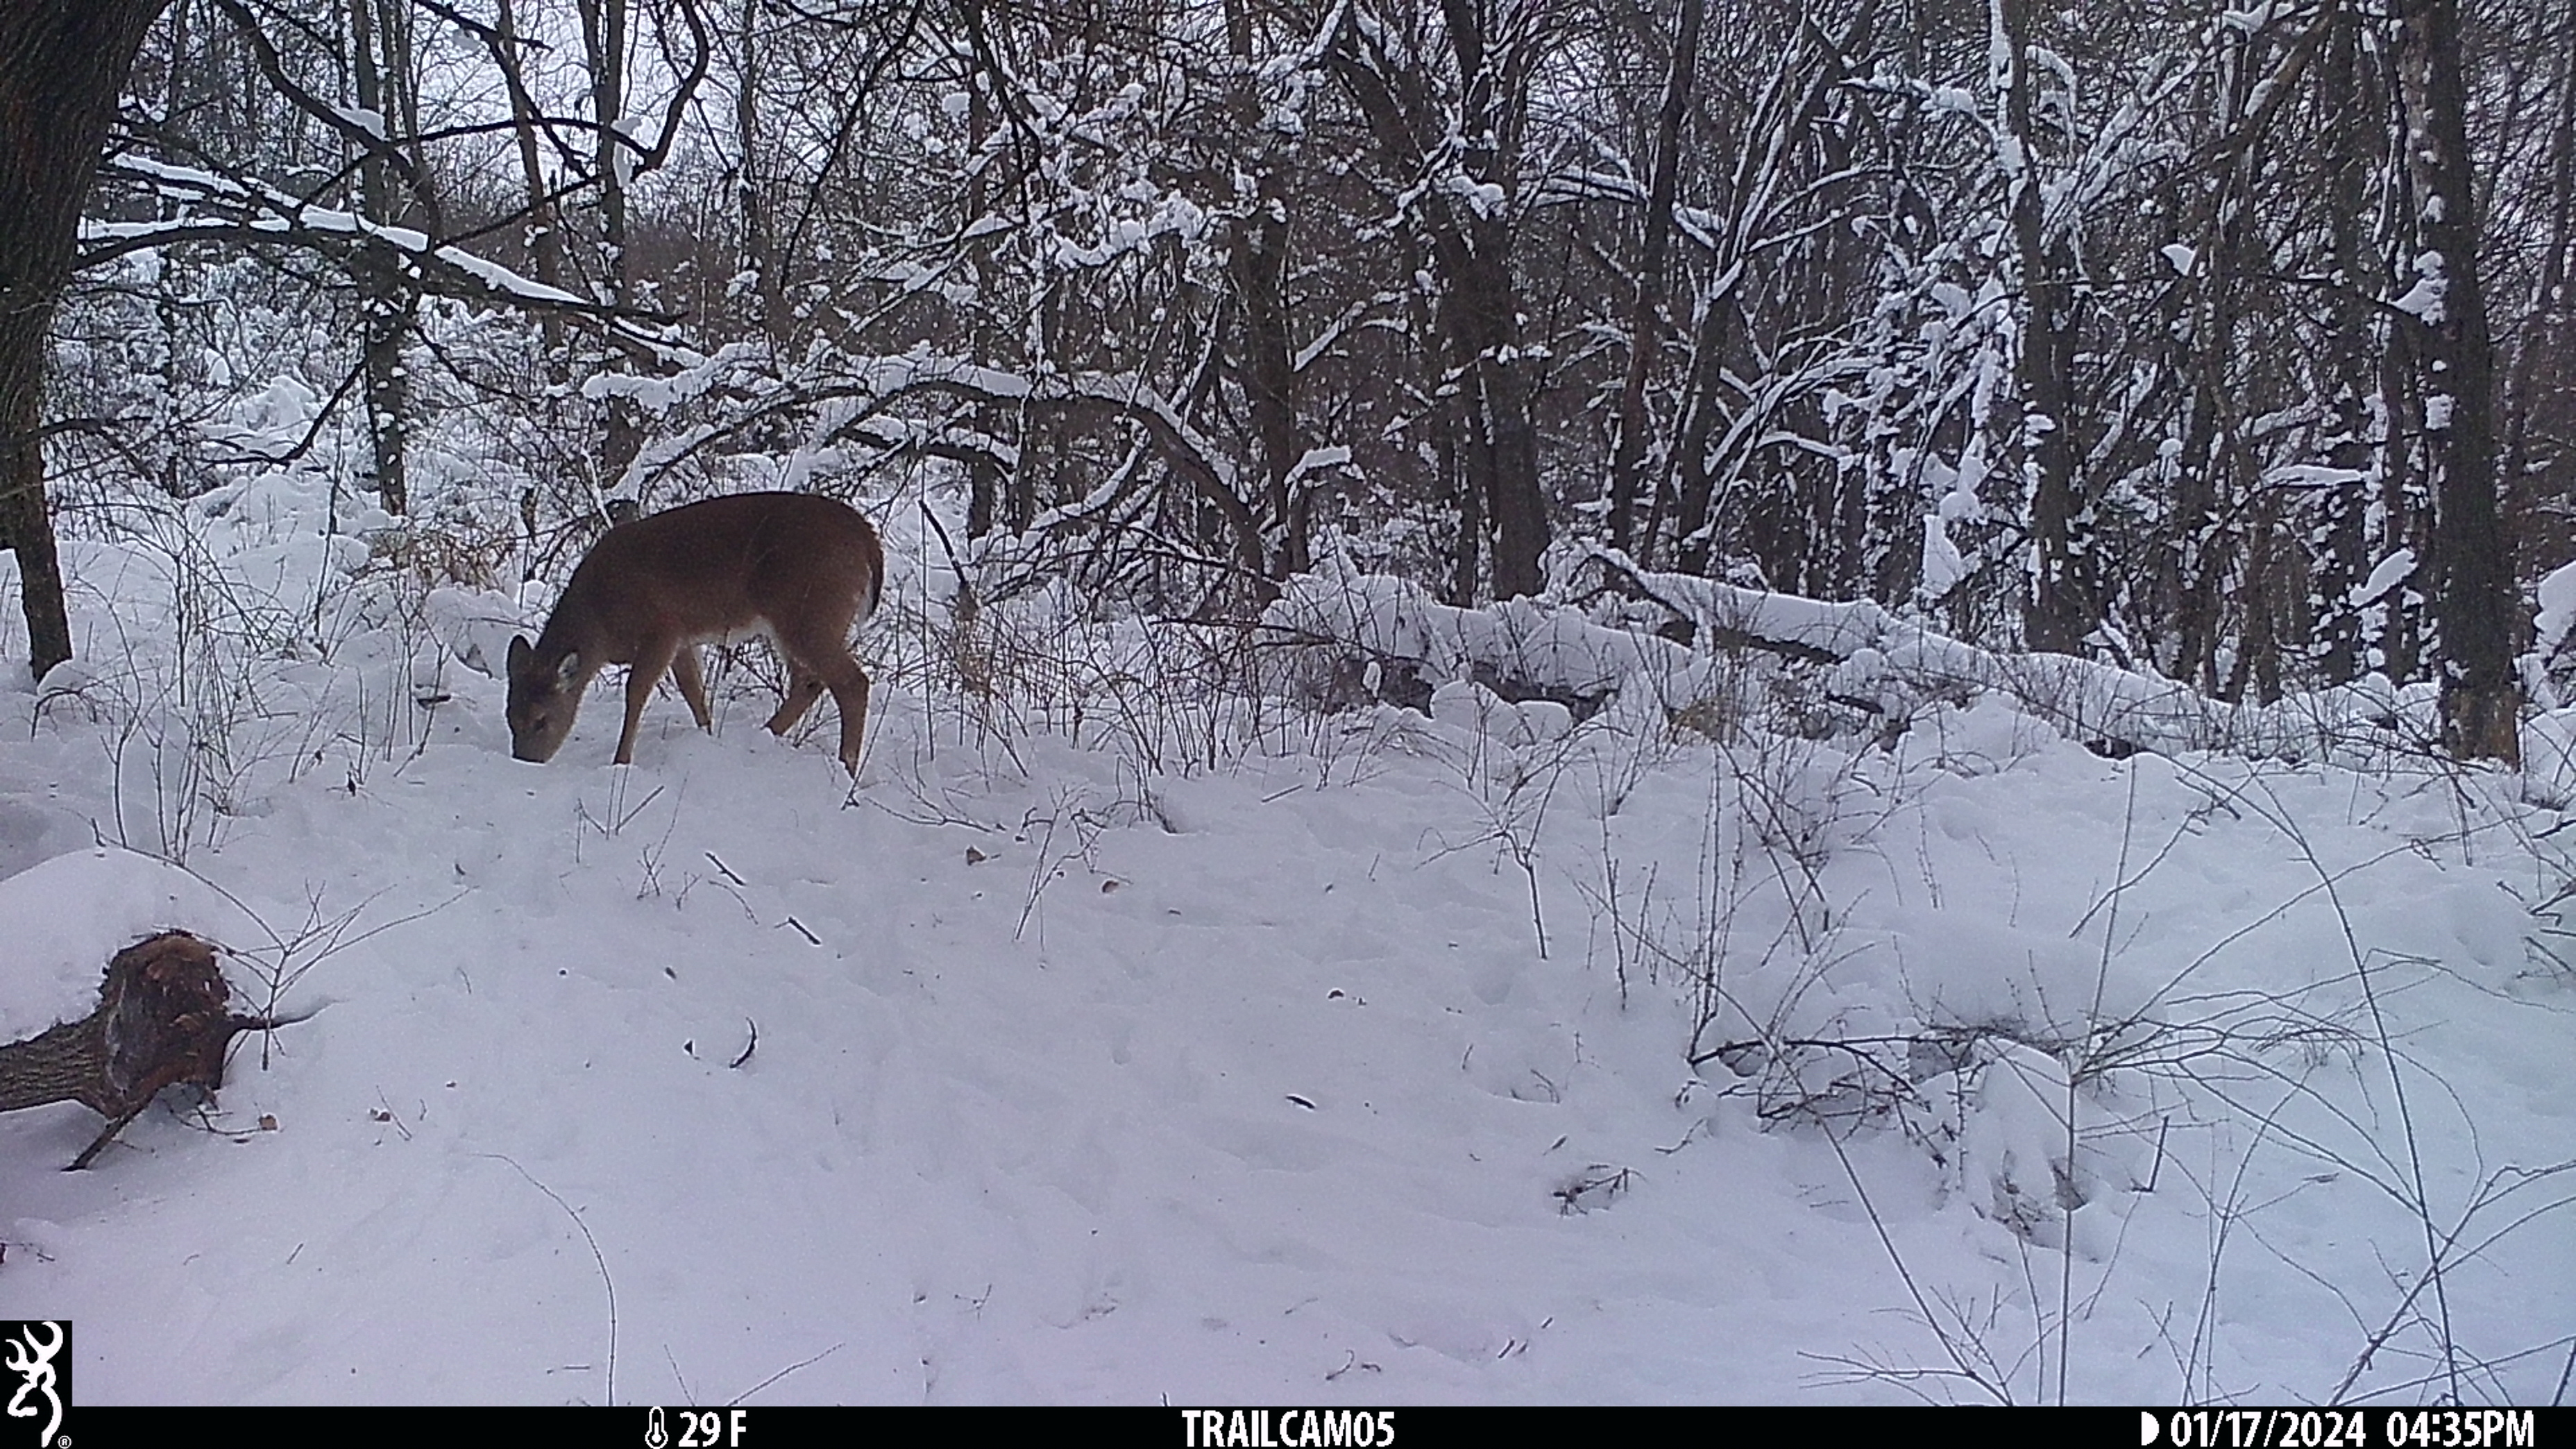DeerDoe: (502, 487, 886, 770)
